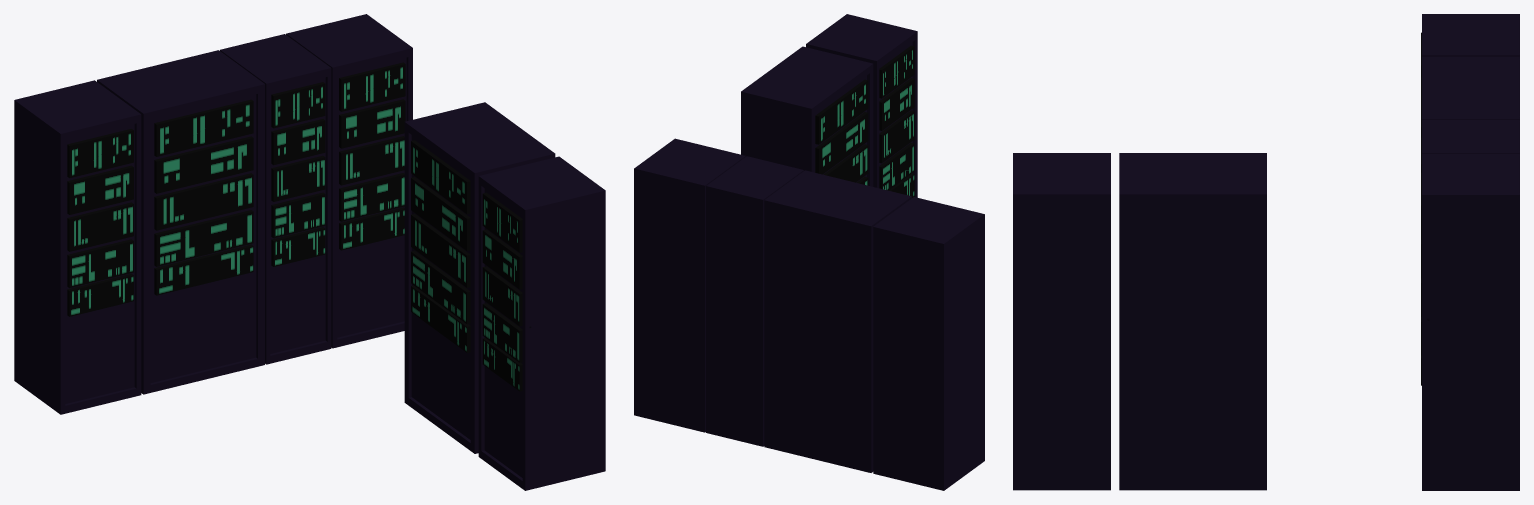
File: Server_Rack.glb
3 renders of one model, left to right at view 1: azimuth 30°, elevation 25°; view 2: azimuth 150°, elevation 25°; view 3: azimuth 270°, elevation 25°, orthographic. The views are drawn at different scales.
Parts seen in each view (by area): view 1: Server_rack_1, Server_rack_6, Server_rack_4, Server_rack_5, Server_rack_2, Server_rack_3; view 2: Server_rack_1, Server_rack_6, Server_rack_2, Server_rack_3, Server_rack_5, Server_rack_4; view 3: Server_rack_5, Server_rack_2, Server_rack_4, Server_rack_1, Server_rack_6, Server_rack_3.
Part boxes in pixels (x1=…): Server_rack_1: x1=97, y1=50, x2=264, y2=394; Server_rack_6: x1=14, y1=80, x2=141, y2=414; Server_rack_4: x1=478, y1=156, x2=605, y2=490; Server_rack_5: x1=404, y1=102, x2=555, y2=453; Server_rack_2: x1=286, y1=14, x2=412, y2=348; Server_rack_3: x1=220, y1=34, x2=331, y2=364; Server_rack_1: x1=764, y1=170, x2=911, y2=472; Server_rack_6: x1=873, y1=197, x2=984, y2=490; Server_rack_2: x1=634, y1=138, x2=745, y2=432; Server_rack_3: x1=706, y1=156, x2=803, y2=446; Server_rack_5: x1=741, y1=46, x2=873, y2=186; Server_rack_4: x1=806, y1=14, x2=917, y2=197; Server_rack_5: x1=1119, y1=153, x2=1266, y2=490; Server_rack_2: x1=1421, y1=153, x2=1519, y2=490; Server_rack_4: x1=1013, y1=153, x2=1110, y2=490; Server_rack_1: x1=1421, y1=56, x2=1519, y2=137; Server_rack_6: x1=1421, y1=14, x2=1519, y2=77; Server_rack_3: x1=1421, y1=119, x2=1519, y2=172.
Bounding box in the file's own units: 2.63 × 2 × 3.11.
Materials: 1 (1 with a texture image).
